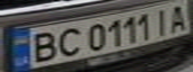0: (84, 20, 109, 52)
1: (133, 10, 154, 40), (106, 16, 124, 47), (121, 14, 139, 43)
A: (163, 1, 193, 34)
B: (21, 29, 63, 63)
C: (51, 25, 84, 57)
I: (148, 5, 175, 35)
